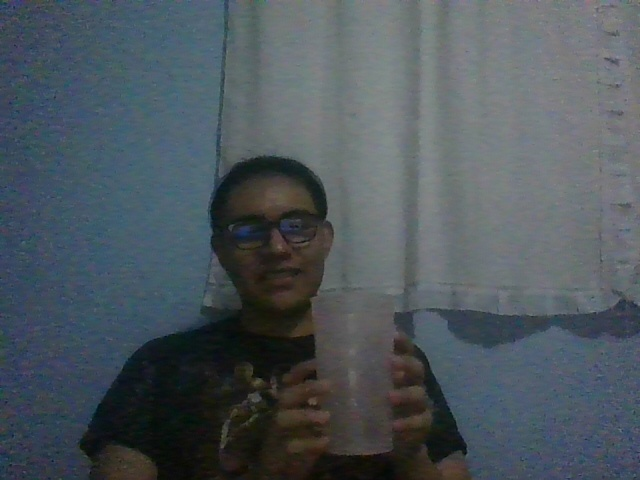vaso: (307, 290, 397, 457)
